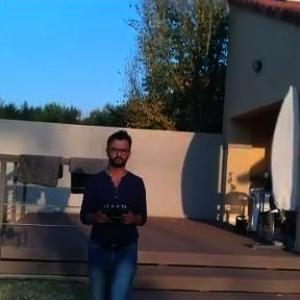follow: (75, 124, 153, 299)
